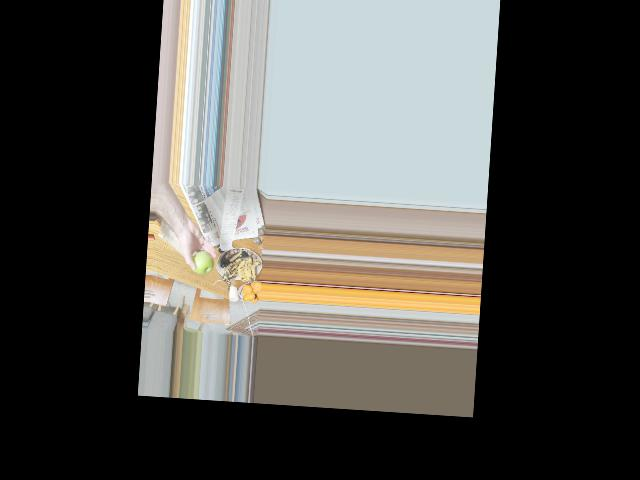apple: (187, 246, 215, 276)
